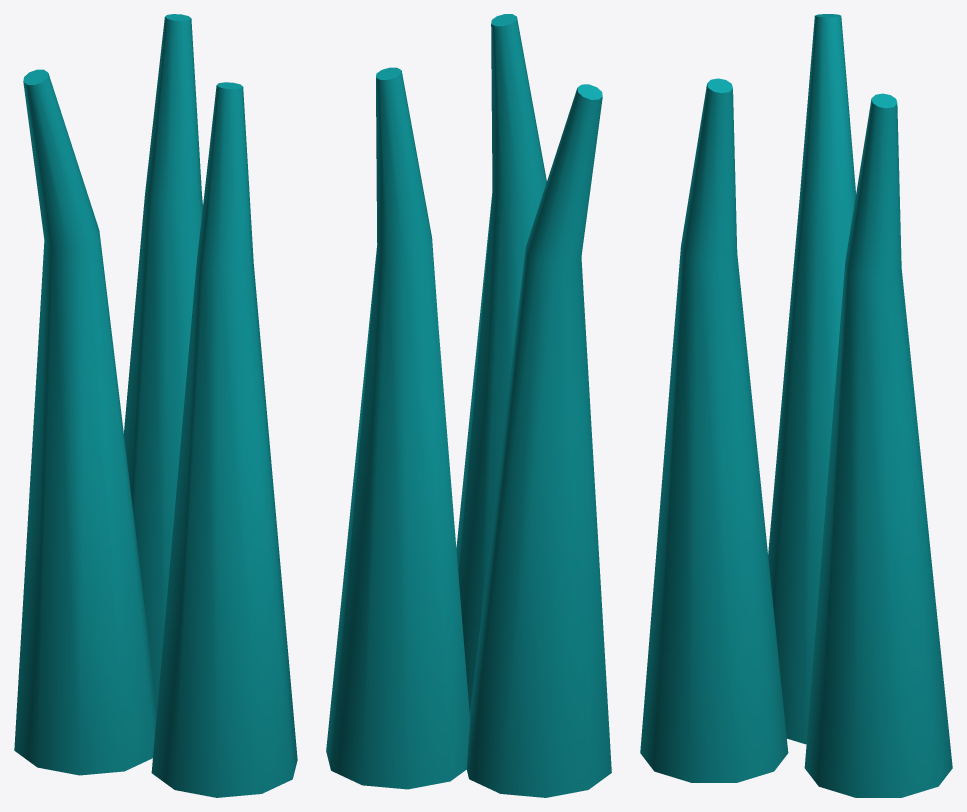
Rendered from Grass_N.fbx.
The picture shows the model from 3 angles, left to right: view 1: azimuth 30°, elevation 25°; view 2: azimuth 150°, elevation 25°; view 3: azimuth 270°, elevation 25°; orthographic projection.
Parts seen in each view (by area): view 1: Grass_N; view 2: Grass_N; view 3: Grass_N.
Part boxes in pixels (x1,y1,x2,y2): Grass_N: [14, 14, 297, 797]; Grass_N: [326, 14, 611, 797]; Grass_N: [640, 14, 952, 797].
Bounding box in the file's own units: 39.96 × 111 × 46.49.
